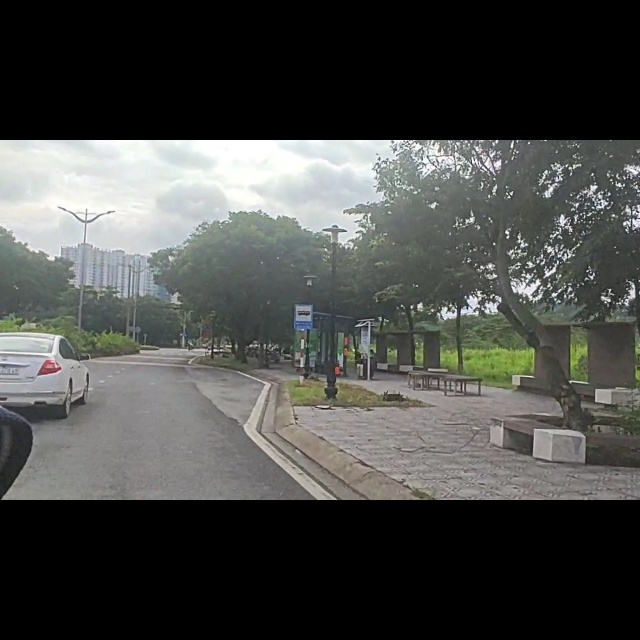bien_hieu_lenh: (291, 287, 316, 341)
